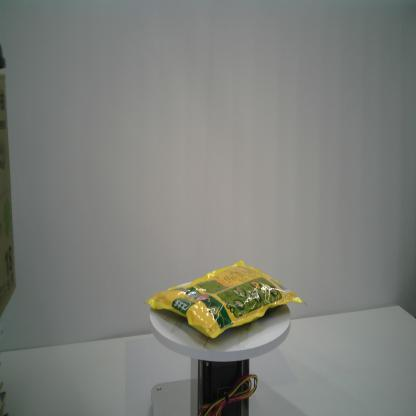Seasoner: (142, 258, 307, 342)
